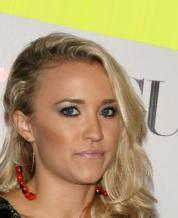face: (58, 97, 120, 160)
